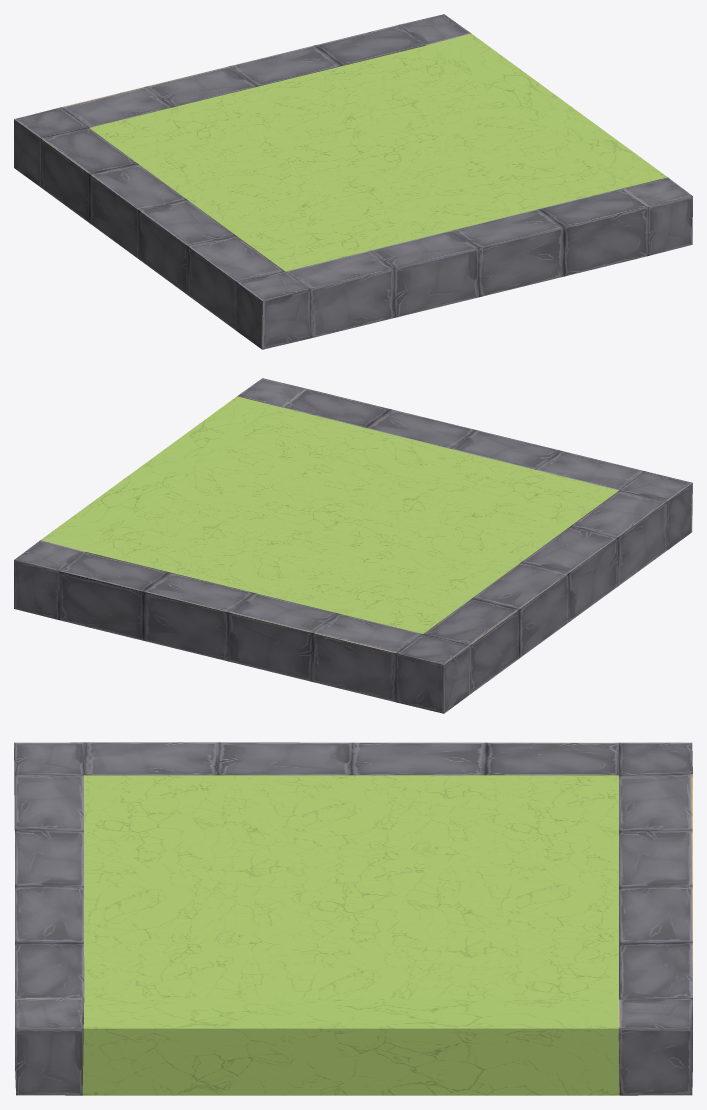
File: Capricorn_Floor_Tile_2.fbx
The picture shows the model from 3 angles, top to bottom: view 1: azimuth 30°, elevation 25°; view 2: azimuth 150°, elevation 25°; view 3: azimuth 270°, elevation 25°; orthographic projection. The views are drawn at different scales.
Visible parts, largest first — view 1: Capricorn_Floor_Tile_2; view 2: Capricorn_Floor_Tile_2; view 3: Capricorn_Floor_Tile_2.
Part boxes in pixels (x1,y1,x2,y2): Capricorn_Floor_Tile_2: (14,14,692,349); Capricorn_Floor_Tile_2: (14,378,692,713); Capricorn_Floor_Tile_2: (14,742,692,1095).
Size of the model in its own units: 602 by 600 by 65.41.
